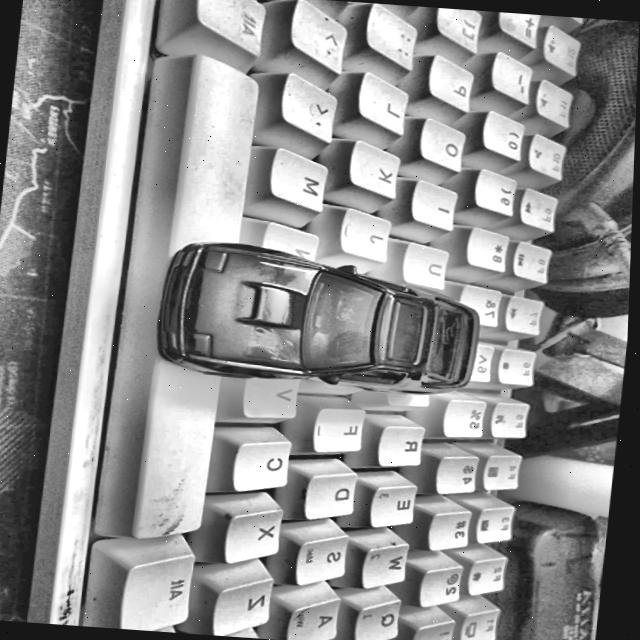car: (153, 238, 489, 400)
